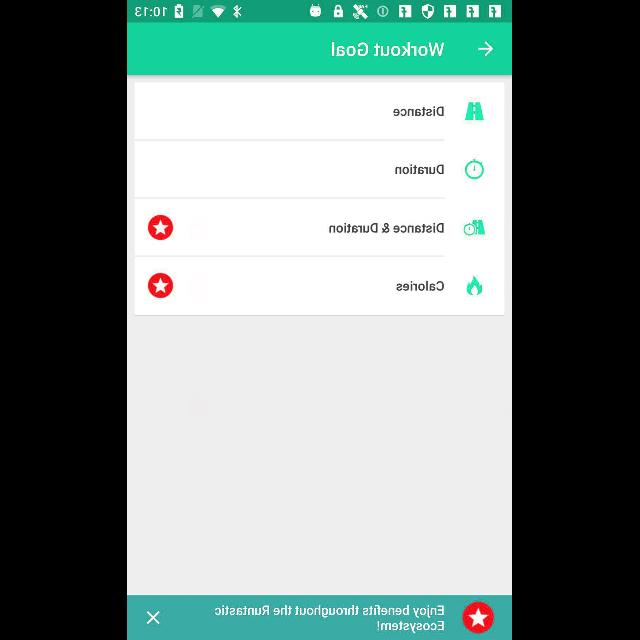icon: (463, 602, 495, 634), (148, 213, 175, 241), (148, 272, 174, 300), (466, 158, 484, 180), (479, 41, 495, 57), (147, 611, 161, 625)
image: (464, 220, 486, 236), (466, 102, 484, 120), (467, 276, 483, 296)
panel: (134, 82, 506, 316)
text: (215, 604, 445, 634), (332, 41, 446, 57), (330, 223, 444, 233), (397, 280, 445, 292), (396, 164, 444, 176), (394, 105, 444, 116)
toolbar: (128, 23, 512, 75)
uppertaskbar: (128, 1, 512, 23)
